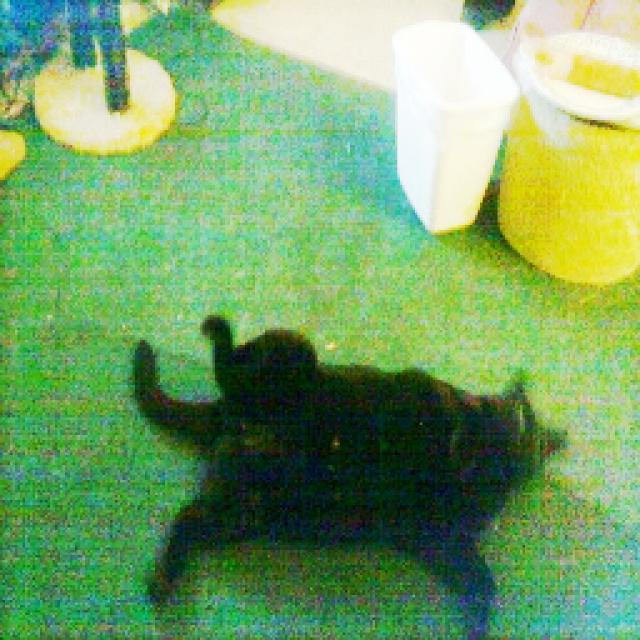cat: (116, 311, 572, 640)
